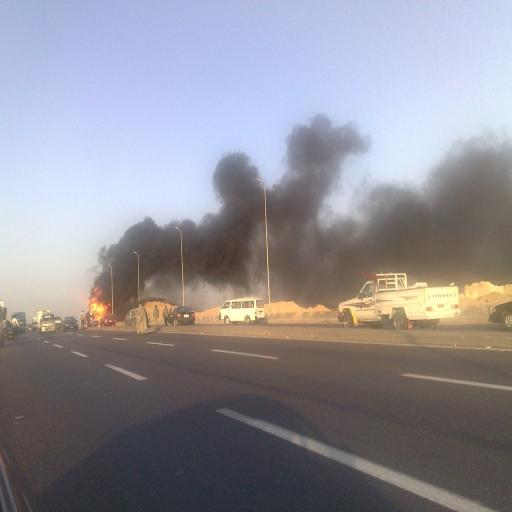fire: (89, 288, 109, 319), (89, 302, 106, 319)
smoke: (266, 116, 511, 305)
